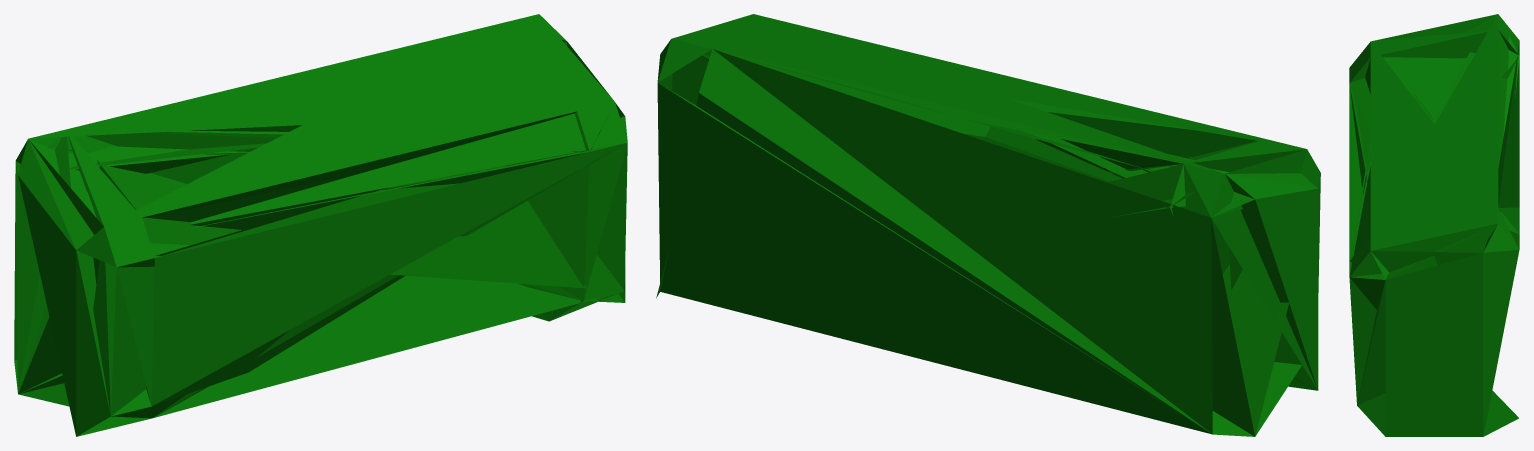
Rendered from S.S._Dolphin_part.026.obj.
3 renders of one model, left to right at view 1: azimuth 30°, elevation 25°; view 2: azimuth 150°, elevation 25°; view 3: azimuth 270°, elevation 25°, orthographic. The views are drawn at different scales.
Parts seen in each view (by area): view 1: S.S._Dolphin_part.026; view 2: S.S._Dolphin_part.026; view 3: S.S._Dolphin_part.026.
Boxes of the visible parts, <box> form: S.S._Dolphin_part.026: <box>14,14,627,436</box>; S.S._Dolphin_part.026: <box>656,14,1320,436</box>; S.S._Dolphin_part.026: <box>1349,14,1519,436</box>.
Size of the model in its own units: 4.23 by 1.8 by 1.35.
